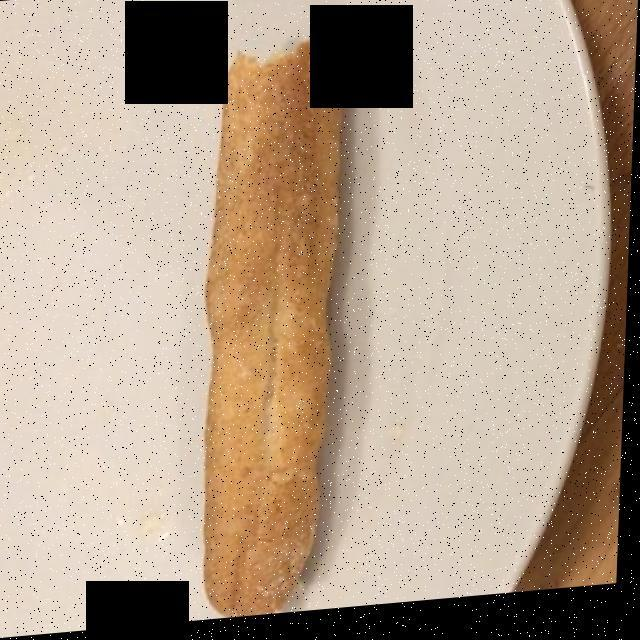grissini: (209, 45, 349, 615)
